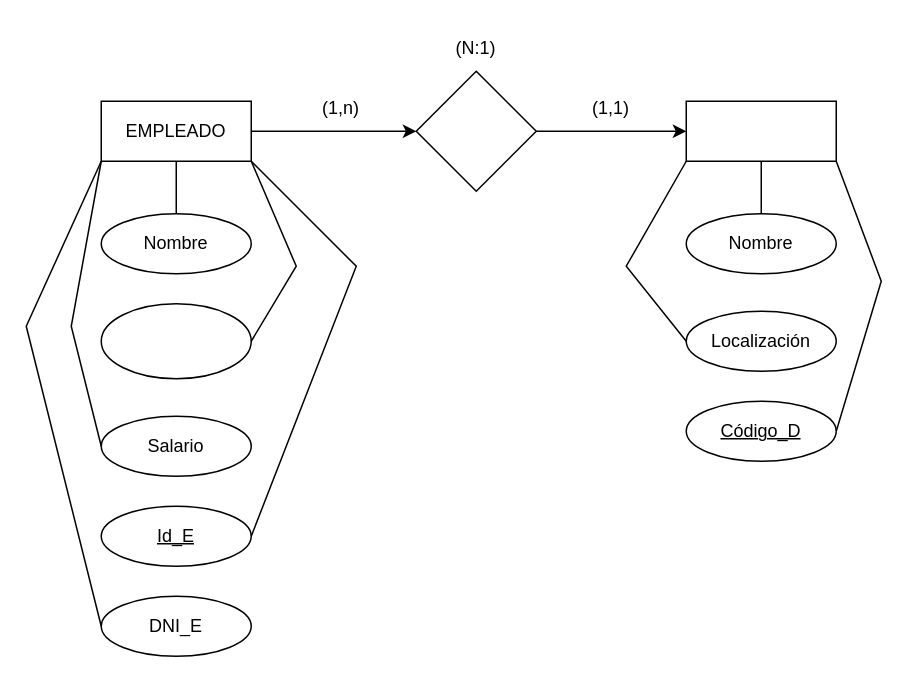
The diagram is 909 pixels wide and 683 high, and some of its shapes have lost their labels. Each missing label, with the centre of its shape:
"DEPARTAMENTO" goes at point (760, 130).
"pertenece" goes at point (475, 130).
"Teléfono" goes at point (175, 340).
